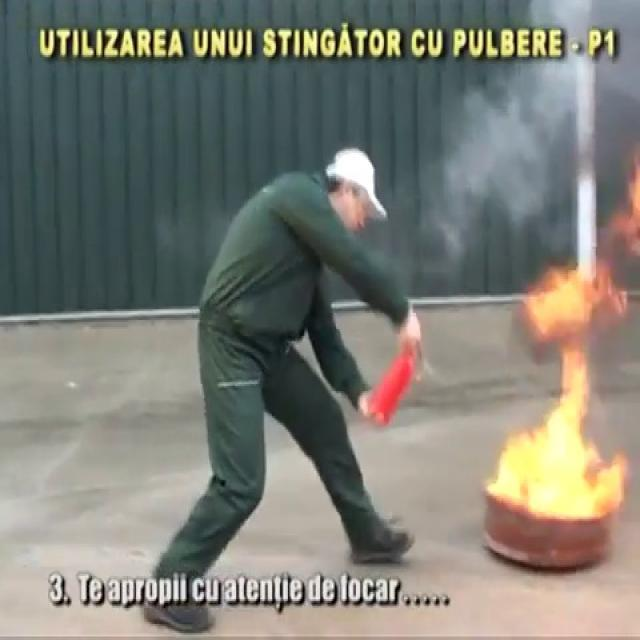Fire: (503, 256, 630, 514)
Smoke: (436, 0, 640, 283)
